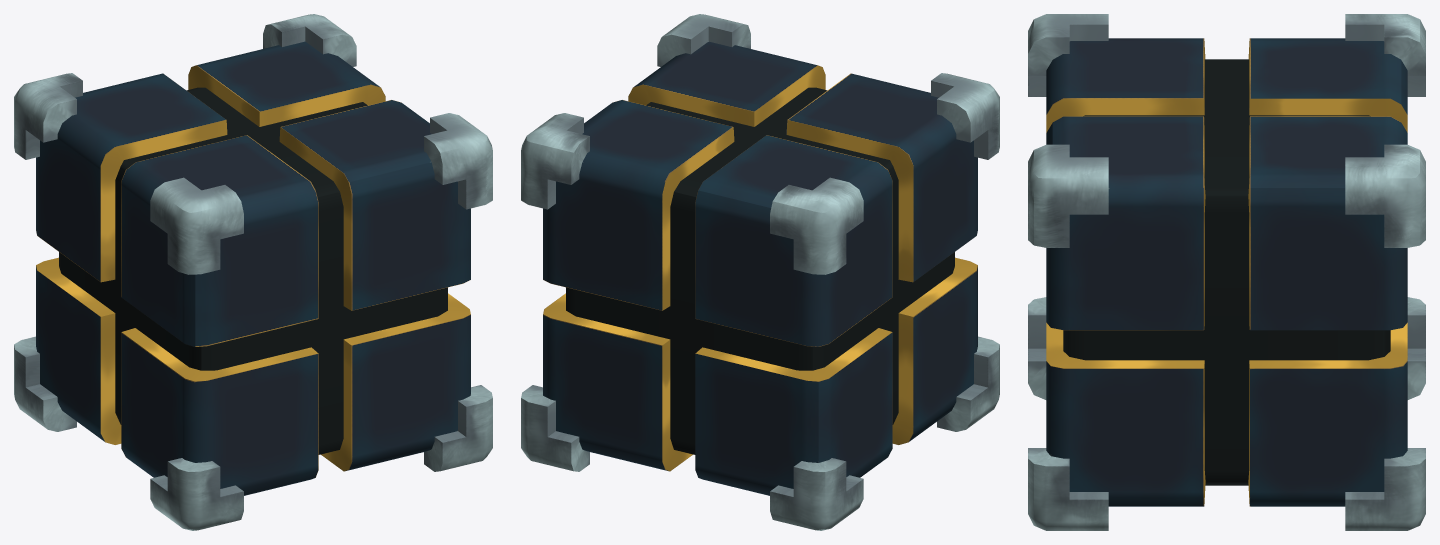
File: PowerCubeAfterTexture.fbx
3 renders of one model, left to right at view 1: azimuth 30°, elevation 25°; view 2: azimuth 150°, elevation 25°; view 3: azimuth 270°, elevation 25°, orthographic. The views are drawn at different scales.
Parts seen in each view (by area): view 1: PowerCube; view 2: PowerCube; view 3: PowerCube.
Boxes of the visible parts, x1,y1,x2,y2 form: PowerCube: [14, 14, 492, 530]; PowerCube: [521, 14, 999, 530]; PowerCube: [1028, 14, 1425, 530].
Bounding box in the file's own units: 200 × 200 × 198.
1 material, 1 textured.
